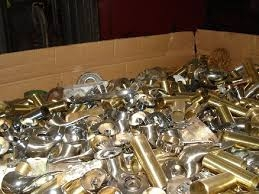metal: (128, 135, 174, 192), (200, 151, 259, 193), (94, 142, 131, 185), (190, 168, 239, 194), (205, 92, 252, 119), (220, 128, 259, 147), (163, 95, 190, 122), (19, 103, 51, 125), (136, 120, 162, 147), (56, 138, 86, 161), (213, 103, 239, 126), (13, 158, 41, 179)
